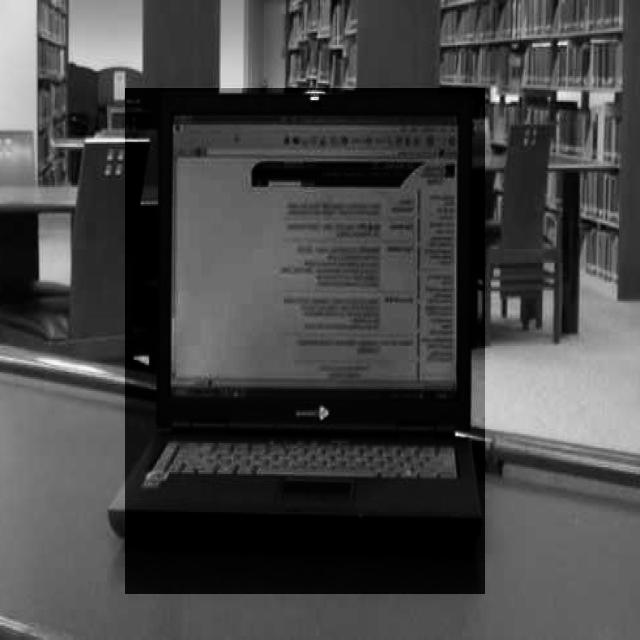-keyboard-: (126, 88, 486, 594)
